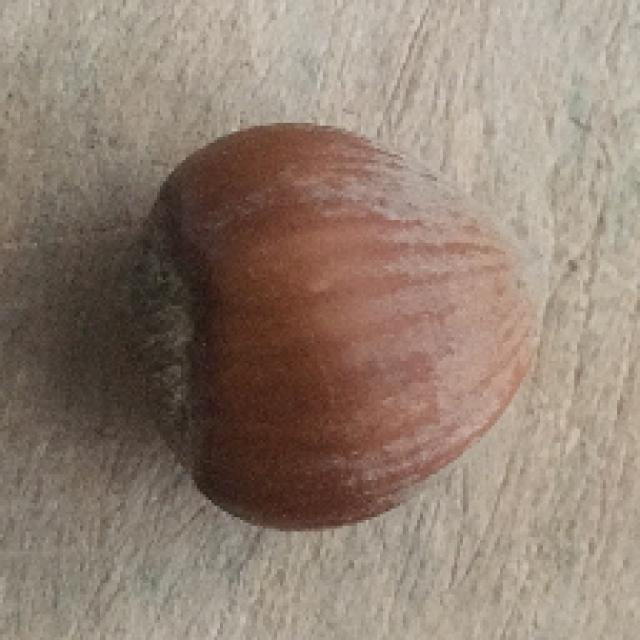QualityHazelnut: (123, 120, 553, 530)
